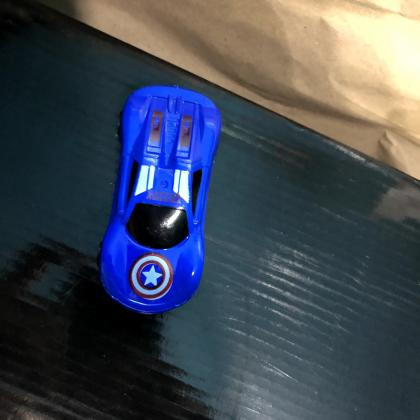Car: (100, 89, 220, 315)
